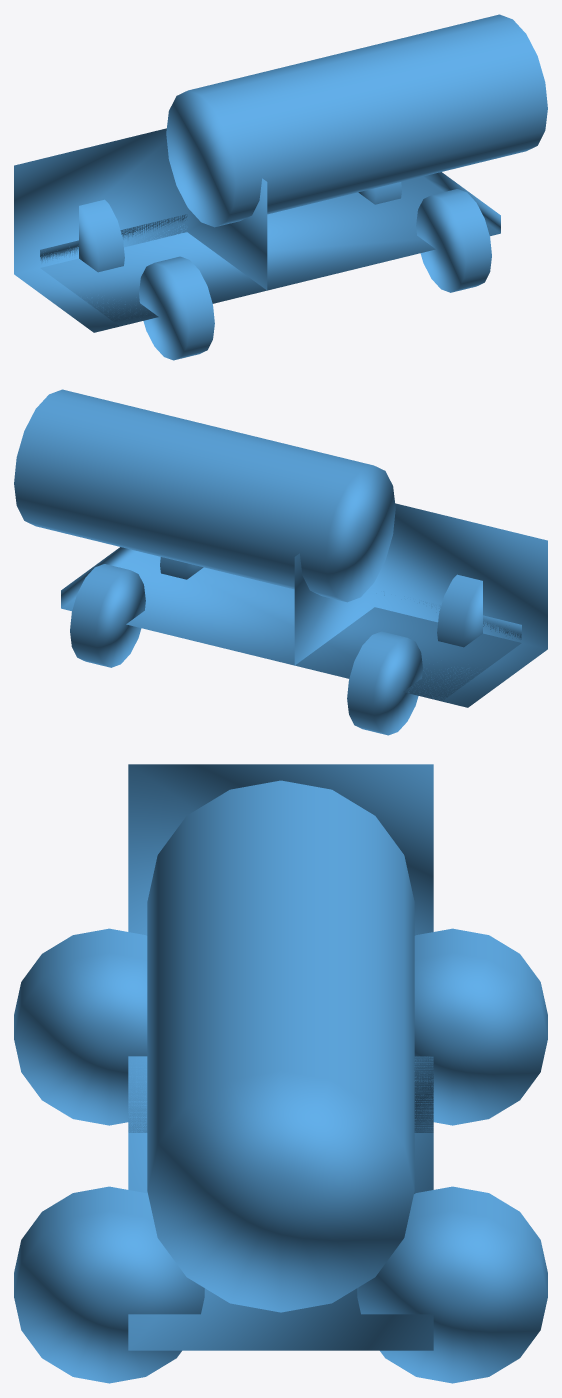
The model's file is pipa.glb.
3 renders of one model, top to bottom at view 1: azimuth 30°, elevation 25°; view 2: azimuth 150°, elevation 25°; view 3: azimuth 270°, elevation 25°, orthographic. The views are drawn at different scales.
Size of the model in its own units: 2.65 by 1.15 by 1.4.
